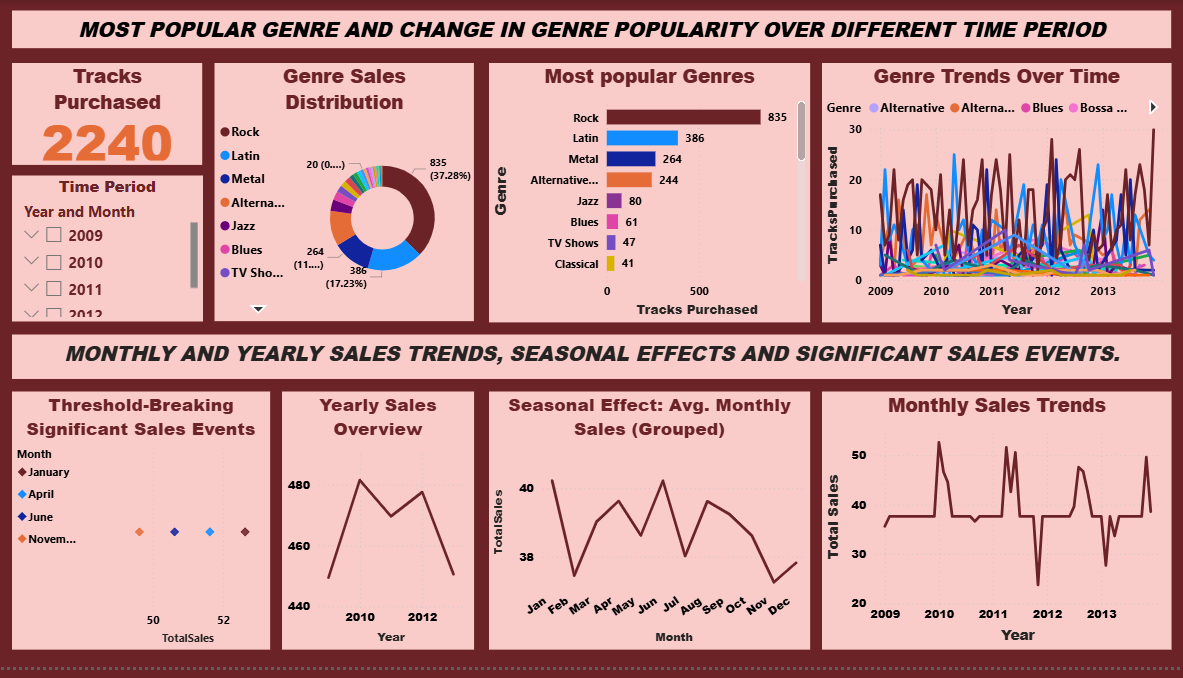

What the dashboard file says about the page in this screenshot:
{"tool":"powerbi","page":{"name":"Page 2","canvas":[1280,720],"ordinal":1},"visuals":[{"type":"clusteredBarChart","title":"Most popular Genres","fields":{"Category":["genre_popularity.Genre"],"Y":["Sum(genre_trends.TracksPurchased)"]},"box":[531.1,68,346.5,280.1],"z":0},{"type":"card","title":"Tracks Purchased","fields":{"Values":["Sum(genre_trends.TracksPurchased)"]},"box":[16.2,68,205.6,110.1],"z":1000},{"type":"lineChart","title":"Genre Trends Over Time","fields":{"Category":["genre_trends.YearMonth.Variation.Date Hierarchy.Year","genre_trends.YearMonth.Variation.Date Hierarchy.Month"],"Y":["Sum(genre_trends.TracksPurchased)"],"Series":["genre_trends.Genre"]},"box":[890.6,68,377.3,280.1],"z":2000},{"type":"donutChart","title":" Genre Sales Distribution","fields":{"Category":["genre_trends.Genre"],"Y":["Sum(genre_trends.TracksPurchased)"]},"box":[234.8,68,280.1,278.5],"z":3000},{"type":"slicer","title":"Time Period","fields":{"Values":["genre_trends.YearMonth.Variation.Date Hierarchy.Year","genre_trends.YearMonth.Variation.Date Hierarchy.Month"]},"box":[16.2,189.4,205.6,157.1],"z":4000},{"type":"lineChart","title":"Monthly Sales Trends","fields":{"Y":["Sum(monthly_sales.TotalSales)"],"Category":["monthly_sales.YearMonth.Variation.Date Hierarchy.Year","monthly_sales.YearMonth.Variation.Date Hierarchy.Month"]},"box":[890.6,422.6,377.3,278.5],"z":5000},{"type":"lineChart","title":"Yearly Sales Overview","fields":{"Category":["yearly_sales.Year"],"Y":["Sum(yearly_sales.TotalSales)"]},"box":[307.7,422.6,207.3,278.5],"z":6000},{"type":"lineChart","title":"Seasonal Effect: Avg. Monthly Sales (Grouped)","fields":{"Y":["Sum(seasonal_sales.TotalSales)"],"Category":["MonthMapping.MonthName"]},"box":[531.1,422.6,346.5,278.5],"z":7000},{"type":"scatterChart","title":"Threshold-Breaking Significant Sales Events","fields":{"X":["Sum(significant_sales_events.TotalSales)"],"Series":["significant_sales_events.YearMonth.Variation.Date Hierarchy.Month"],"Category":["significant_sales_events.YearMonth.Variation.Date Hierarchy.Year","significant_sales_events.YearMonth.Variation.Date Hierarchy.Month"]},"box":[16.2,422.6,278.5,278.5],"z":8000},{"type":"textbox","box":[16.2,11.3,1251.7,40.5],"z":9000},{"type":"textbox","box":[16,361,1251.7,48],"z":10000}]}

Visuals, with their boxes in screenshot pixels (x1, y1, x2, y2), scaled from the page's 1280x720 canvas onto the 1183x678 screenshot:
"Most popular Genres" clusteredBarChart: <box>491,64,811,328</box>
"Tracks Purchased" card: <box>15,64,205,168</box>
"Genre Trends Over Time" lineChart: <box>823,64,1172,328</box>
" Genre Sales Distribution" donutChart: <box>217,64,476,326</box>
"Time Period" slicer: <box>15,178,205,326</box>
"Monthly Sales Trends" lineChart: <box>823,398,1172,660</box>
"Yearly Sales Overview" lineChart: <box>284,398,476,660</box>
"Seasonal Effect: Avg. Monthly Sales (Grouped)" lineChart: <box>491,398,811,660</box>
"Threshold-Breaking Significant Sales Events" scatterChart: <box>15,398,272,660</box>
textbox: <box>15,11,1172,49</box>
textbox: <box>15,340,1172,385</box>
